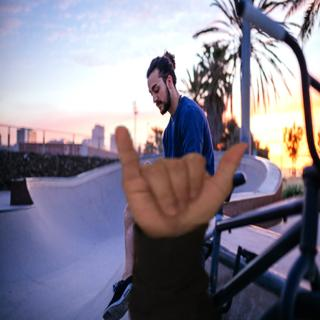HAVE: (106, 121, 249, 244)
